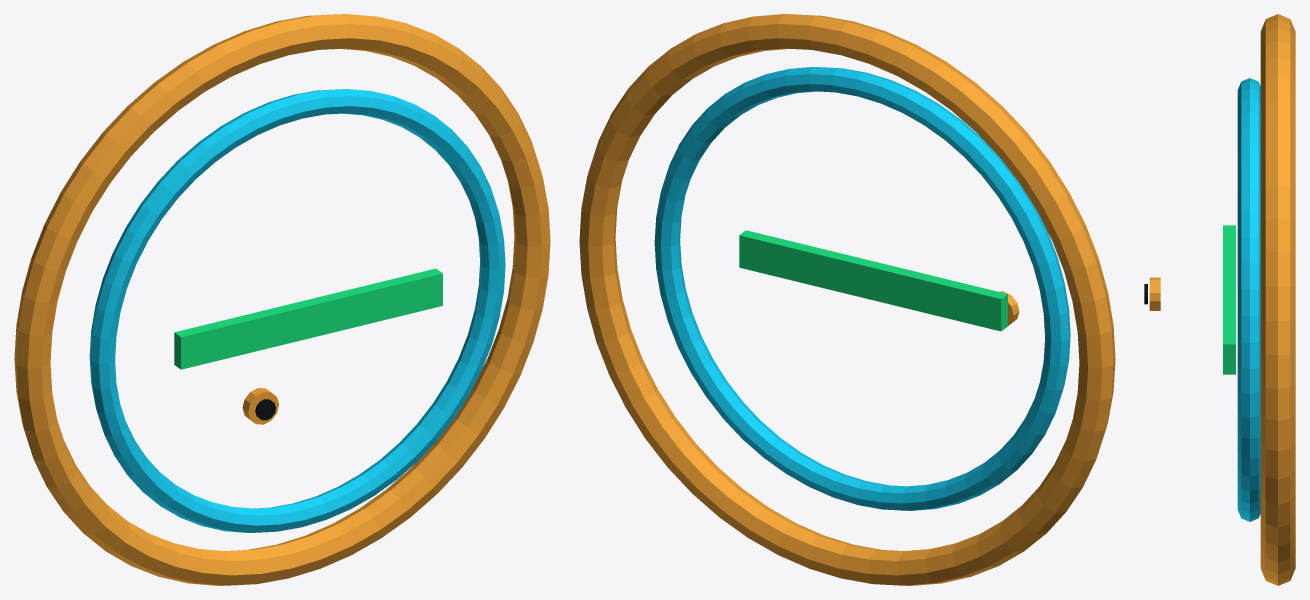
The model's file is 88_L88_AtmosphereMissionCertificationBeacon.fbx.
The picture shows the model from 3 angles, left to right: view 1: azimuth 30°, elevation 25°; view 2: azimuth 150°, elevation 25°; view 3: azimuth 270°, elevation 25°; orthographic projection. The views are drawn at different scales.
Visible parts, largest first — view 1: L87_AtmosphereMissionCertificationBeacon_Part_0000, L87_AtmosphereMissionCertificationBeacon_Part_0001, L87_AtmosphereMissionCertificationBeacon_Part_0002, L87_AtmosphereMissionCertificationBeacon_Part_0003; view 2: L87_AtmosphereMissionCertificationBeacon_Part_0000, L87_AtmosphereMissionCertificationBeacon_Part_0001, L87_AtmosphereMissionCertificationBeacon_Part_0002; view 3: L87_AtmosphereMissionCertificationBeacon_Part_0000, L87_AtmosphereMissionCertificationBeacon_Part_0001, L87_AtmosphereMissionCertificationBeacon_Part_0002, L87_AtmosphereMissionCertificationBeacon_Part_0003.
Boxes of the visible parts, bbox=[...] form: L87_AtmosphereMissionCertificationBeacon_Part_0000: bbox=[14, 14, 550, 585]; L87_AtmosphereMissionCertificationBeacon_Part_0001: bbox=[89, 89, 505, 532]; L87_AtmosphereMissionCertificationBeacon_Part_0002: bbox=[174, 268, 442, 369]; L87_AtmosphereMissionCertificationBeacon_Part_0003: bbox=[242, 388, 279, 424]; L87_AtmosphereMissionCertificationBeacon_Part_0000: bbox=[579, 14, 1115, 585]; L87_AtmosphereMissionCertificationBeacon_Part_0001: bbox=[654, 67, 1070, 510]; L87_AtmosphereMissionCertificationBeacon_Part_0002: bbox=[739, 230, 1007, 331]; L87_AtmosphereMissionCertificationBeacon_Part_0000: bbox=[1260, 14, 1295, 585]; L87_AtmosphereMissionCertificationBeacon_Part_0001: bbox=[1237, 78, 1260, 521]; L87_AtmosphereMissionCertificationBeacon_Part_0002: bbox=[1223, 225, 1235, 374]; L87_AtmosphereMissionCertificationBeacon_Part_0003: bbox=[1149, 277, 1160, 310].
Size of the model in its own units: 224 by 224 by 59.
